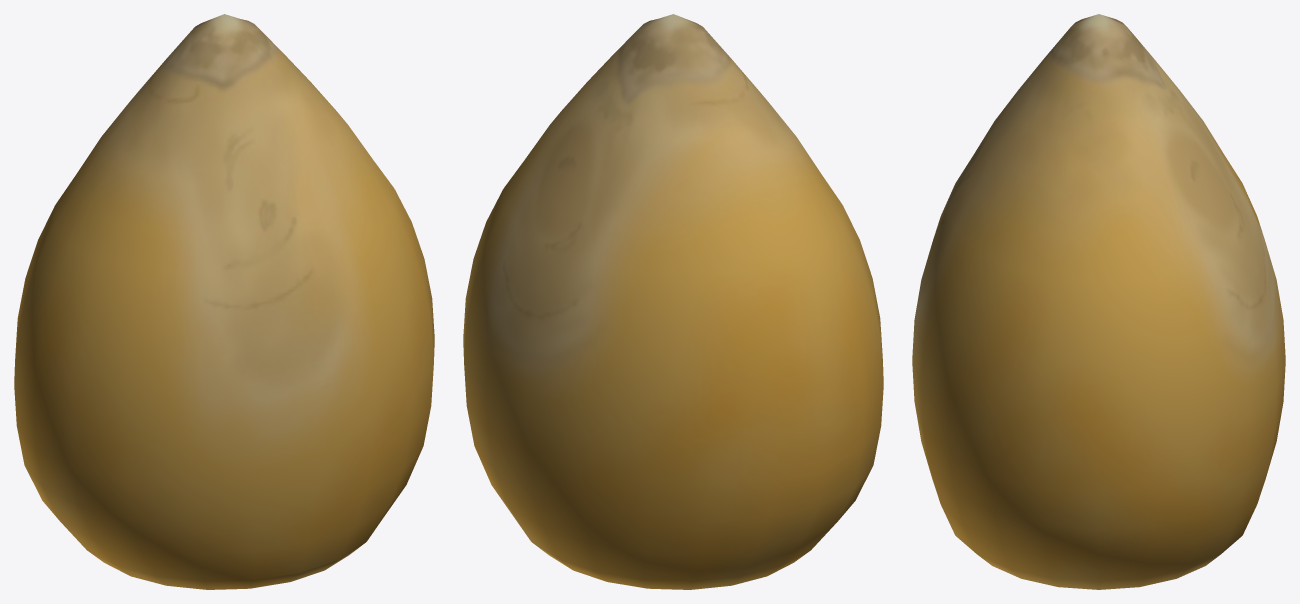
Rendered from seed.glb.
3 renders of one model, left to right at view 1: azimuth 30°, elevation 25°; view 2: azimuth 150°, elevation 25°; view 3: azimuth 270°, elevation 25°, orthographic.
Visible parts, largest first — view 1: seed; view 2: seed; view 3: seed.
Boxes of the visible parts, left/top/right/bottom form: seed: left=14, top=14, right=434, bottom=589; seed: left=463, top=14, right=883, bottom=589; seed: left=912, top=14, right=1285, bottom=589.
Size of the model in its own units: 1.52 by 2.06 by 1.29.
1 material, 1 textured.
